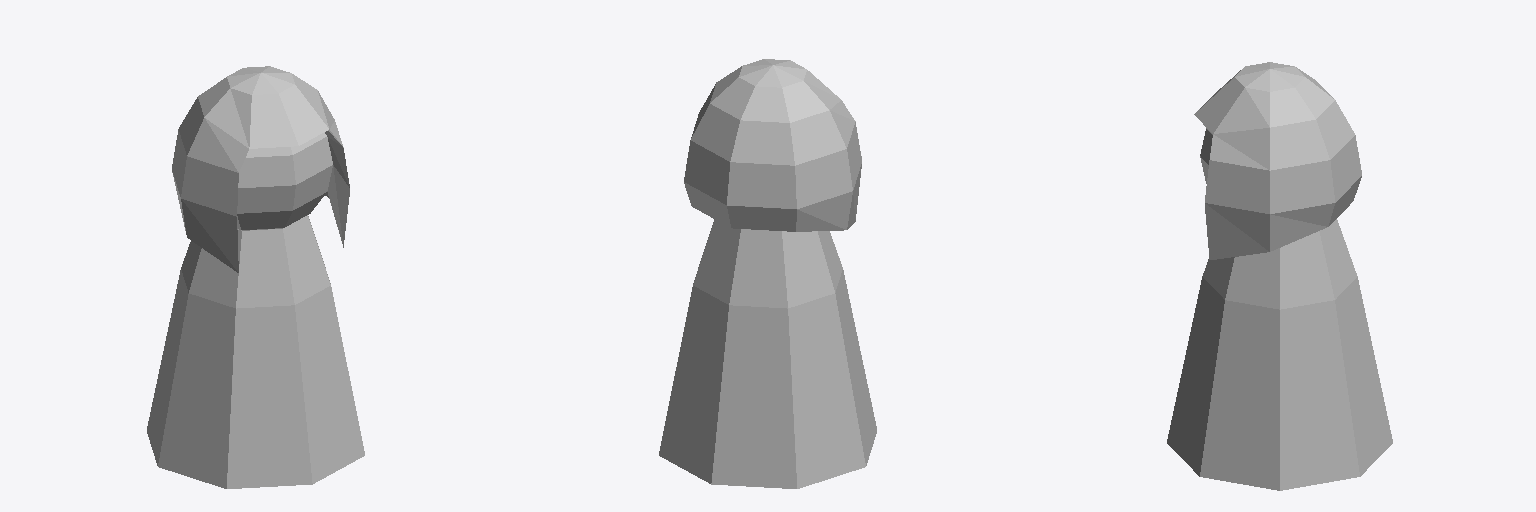
The model's file is passenger_female.obj.
3 renders of one model, left to right at view 1: azimuth 30°, elevation 25°; view 2: azimuth 150°, elevation 25°; view 3: azimuth 270°, elevation 25°, orthographic.
Parts seen in each view (by area): view 1: Cylinder_Cylinder.002; view 2: Cylinder_Cylinder.002; view 3: Cylinder_Cylinder.002.
Part boxes in pixels (x1,y1,x2,y2): Cylinder_Cylinder.002: (147, 66, 364, 488); Cylinder_Cylinder.002: (659, 59, 876, 488); Cylinder_Cylinder.002: (1167, 62, 1392, 490).
Bounding box in the file's own units: 1.73 × 3.15 × 1.73.